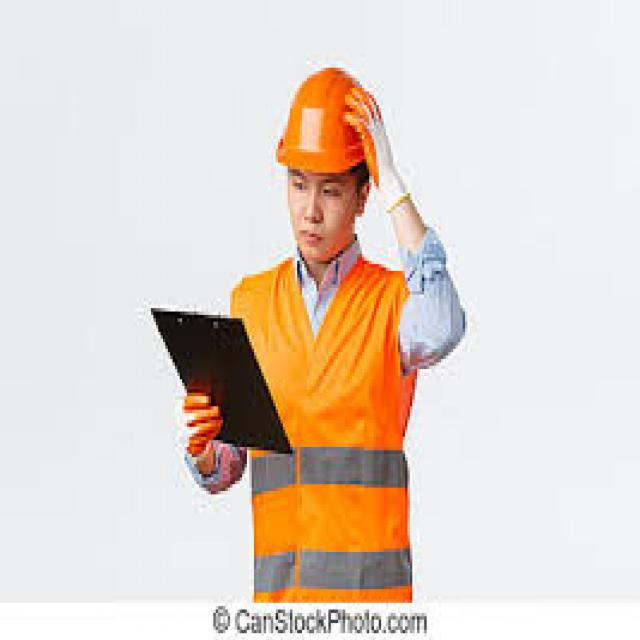Reflective-Jacket: (230, 250, 420, 602)
Safety-Helmet: (271, 57, 388, 183)
